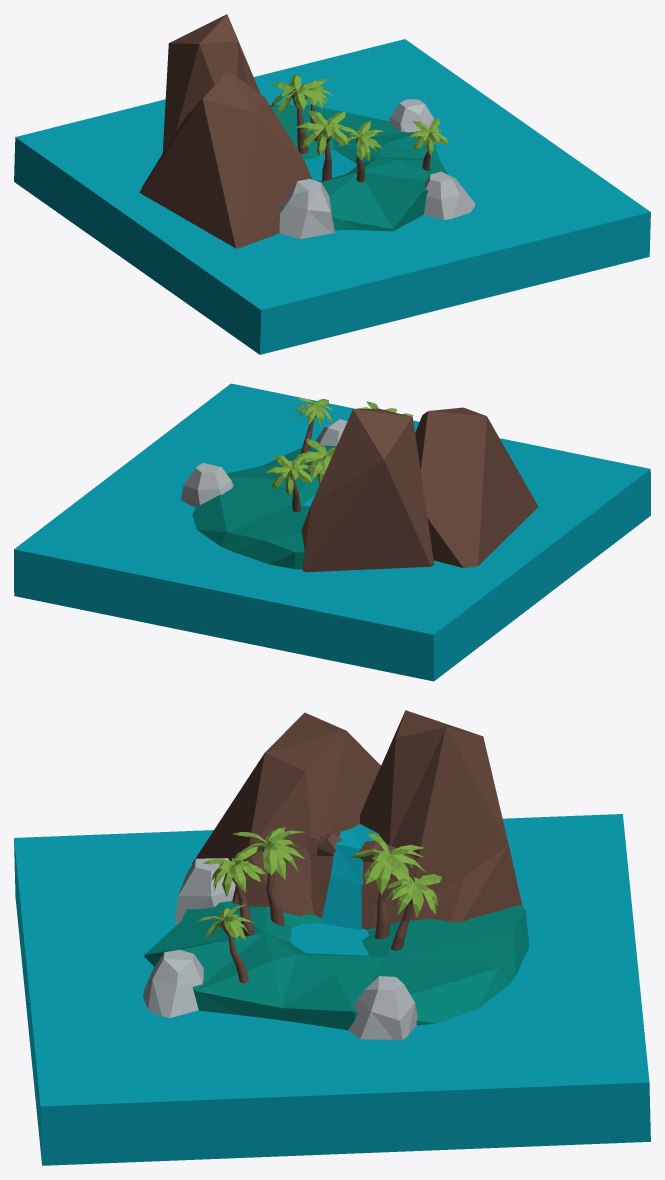
The model's file is island.gltf.
3 renders of one model, top to bottom at view 1: azimuth 30°, elevation 25°; view 2: azimuth 150°, elevation 25°; view 3: azimuth 270°, elevation 25°, orthographic. The views are drawn at different scales.
Visible parts, largest first — view 1: node_MeshObject1941846080-PolyPaper20; view 2: node_MeshObject1941846080-PolyPaper20; view 3: node_MeshObject1941846080-PolyPaper20.
Part boxes in pixels (box(x1,y1,x2,y2)): node_MeshObject1941846080-PolyPaper20: box(14, 14, 650, 354); node_MeshObject1941846080-PolyPaper20: box(14, 383, 650, 681); node_MeshObject1941846080-PolyPaper20: box(14, 710, 650, 1165).
Bounding box in the file's own units: 2.23 × 1.01 × 2.22.
